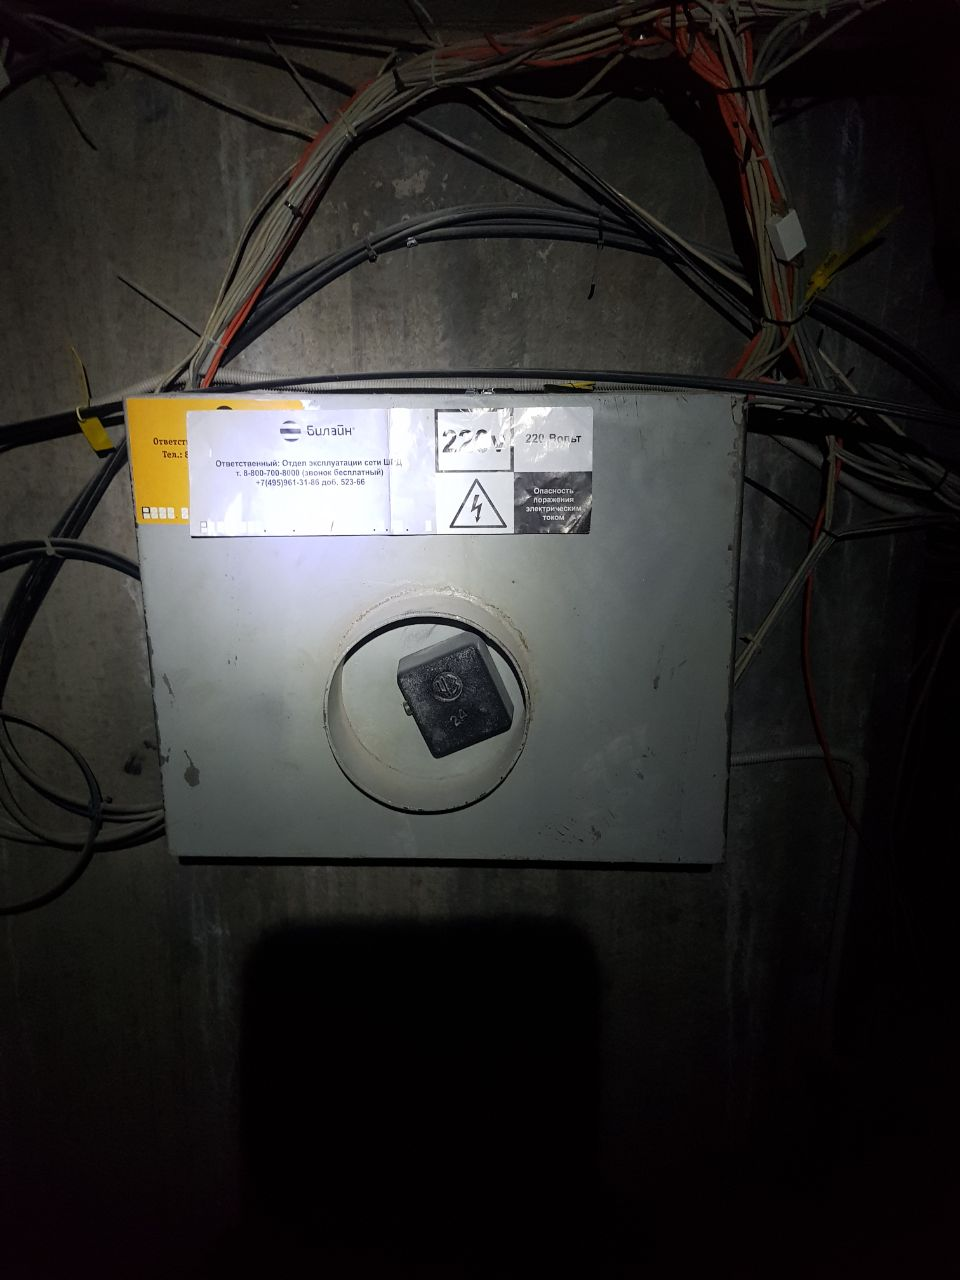shta-3: (119, 387, 748, 872)
